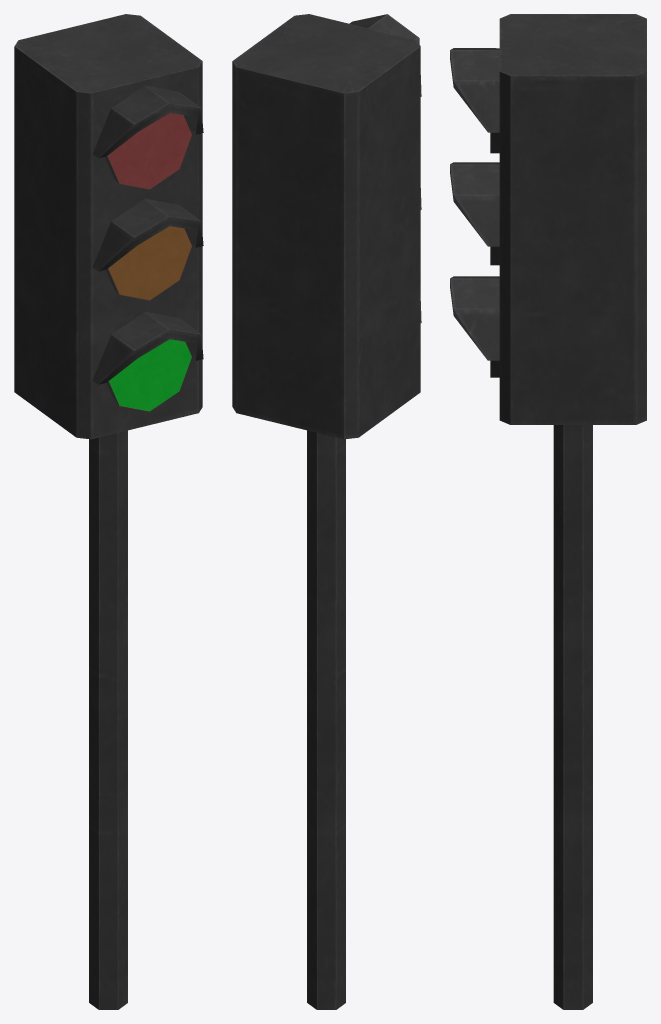
The model's file is Props_Sign_1.fbx.
The picture shows the model from 3 angles, left to right: view 1: azimuth 30°, elevation 25°; view 2: azimuth 150°, elevation 25°; view 3: azimuth 270°, elevation 25°; orthographic projection.
Visible parts, largest first — view 1: Props_Sign_1; view 2: Props_Sign_1; view 3: Props_Sign_1.
Boxes of the visible parts, box(x1,y1,x2,y2) form: Props_Sign_1: box(14, 14, 203, 1009); Props_Sign_1: box(232, 14, 421, 1009); Props_Sign_1: box(450, 14, 646, 1009).
Size of the model in its own units: 63.64 by 457 by 85.12.
